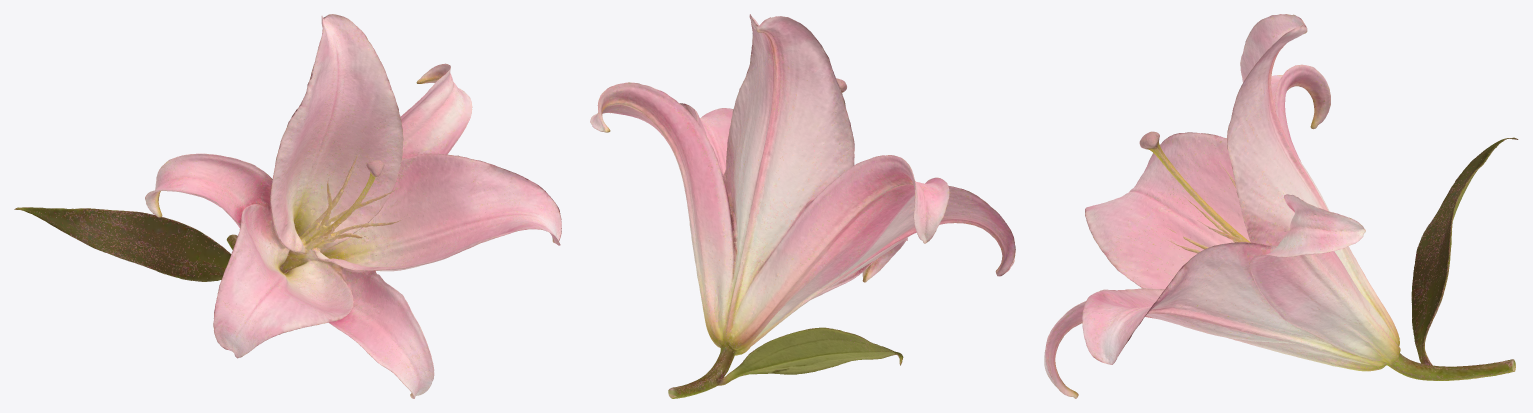
Rendered from flower-transformed.glb.
3 renders of one model, left to right at view 1: azimuth 30°, elevation 25°; view 2: azimuth 150°, elevation 25°; view 3: azimuth 270°, elevation 25°, orthographic. The views are drawn at different scales.
Parts seen in each view (by area): view 1: Object_4; view 2: Object_4; view 3: Object_4.
Boxes of the visible parts, x1,y1,x2,y2 form: Object_4: (14, 14, 561, 398); Object_4: (590, 14, 1015, 398); Object_4: (1044, 14, 1518, 398).
Size of the model in its own units: 0.1828 by 0.1434 by 0.1607.
1 material, 1 textured.
